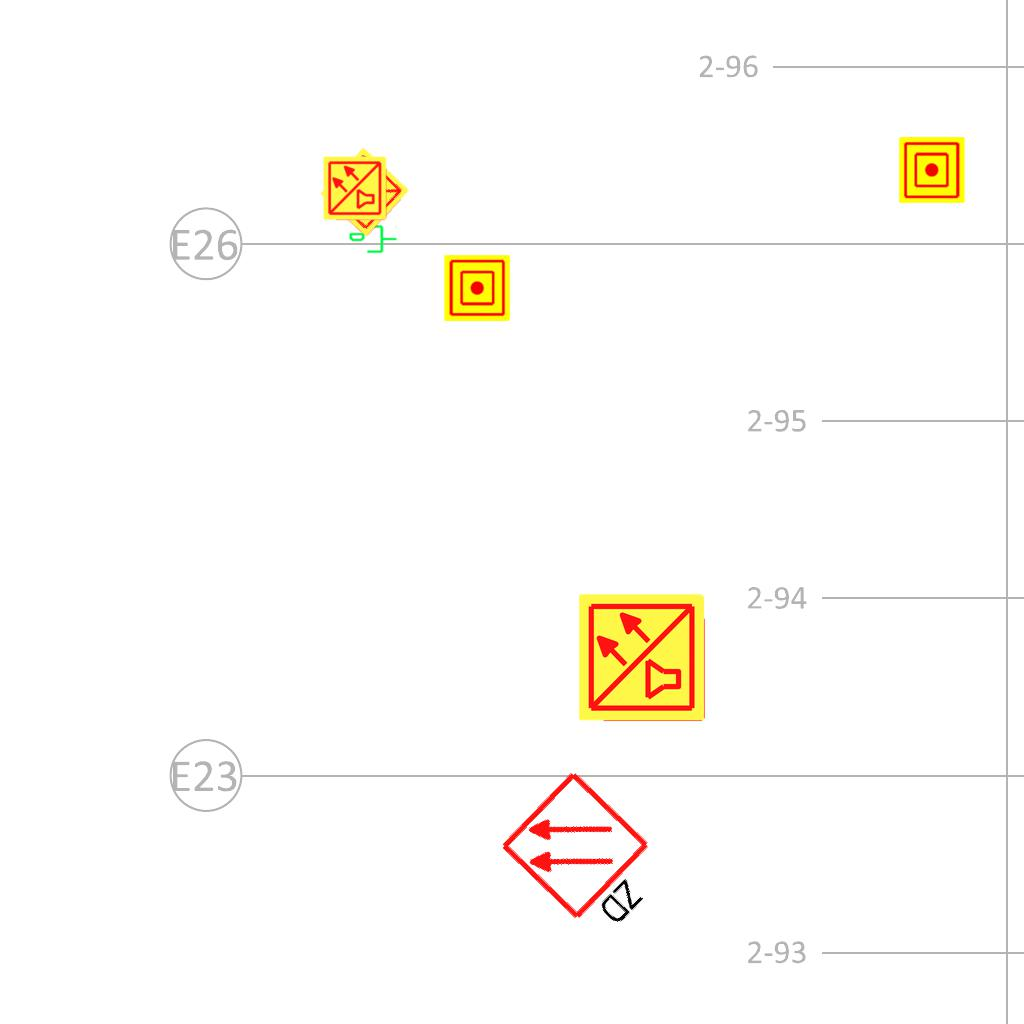Datenanschluss_einfach: (348, 223, 398, 257)
NAM-Nichtautomatischer_Melder: (899, 137, 965, 203), (444, 255, 510, 321)
OKW_Multisensormelder_(Kombination_optischer_Rauch-Kahlenmonoxid_Waerme-Melder): (576, 591, 708, 723), (318, 145, 412, 239), (322, 155, 388, 221)
ZD_Melder_in_Zwischendecke_mit_Revisionsoeffnung_mind_40_x_40_cm: (496, 764, 684, 951)
